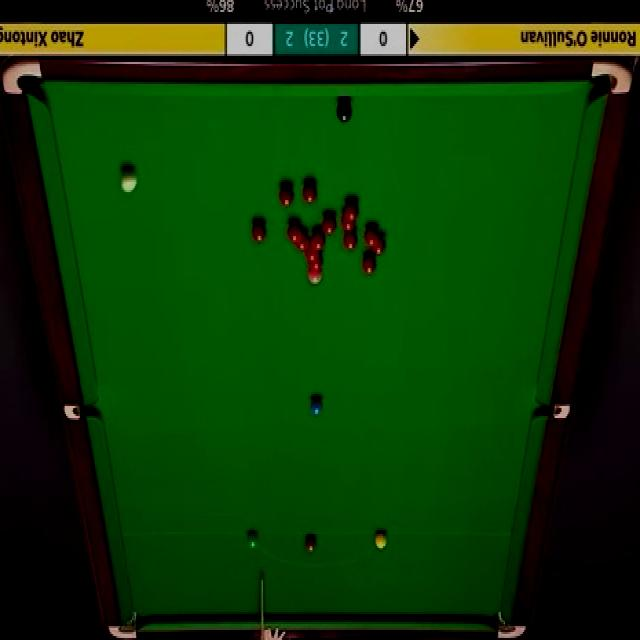black-ball: (336, 102, 354, 125)
blue-ball: (310, 398, 324, 415)
brown-ball: (305, 534, 316, 552)
green-ball: (245, 530, 260, 552)
pink-ball: (308, 262, 324, 277)
red-ball: (301, 181, 318, 205), (310, 228, 326, 251), (324, 212, 340, 235), (278, 184, 293, 208), (287, 222, 303, 244), (361, 252, 375, 276), (348, 198, 363, 220), (253, 221, 268, 243), (343, 208, 358, 227), (296, 234, 310, 254), (370, 224, 382, 247), (346, 232, 361, 250), (306, 244, 320, 262), (375, 237, 387, 257)
white-ball: (120, 170, 138, 193)
yellow-ball: (375, 530, 387, 550)
